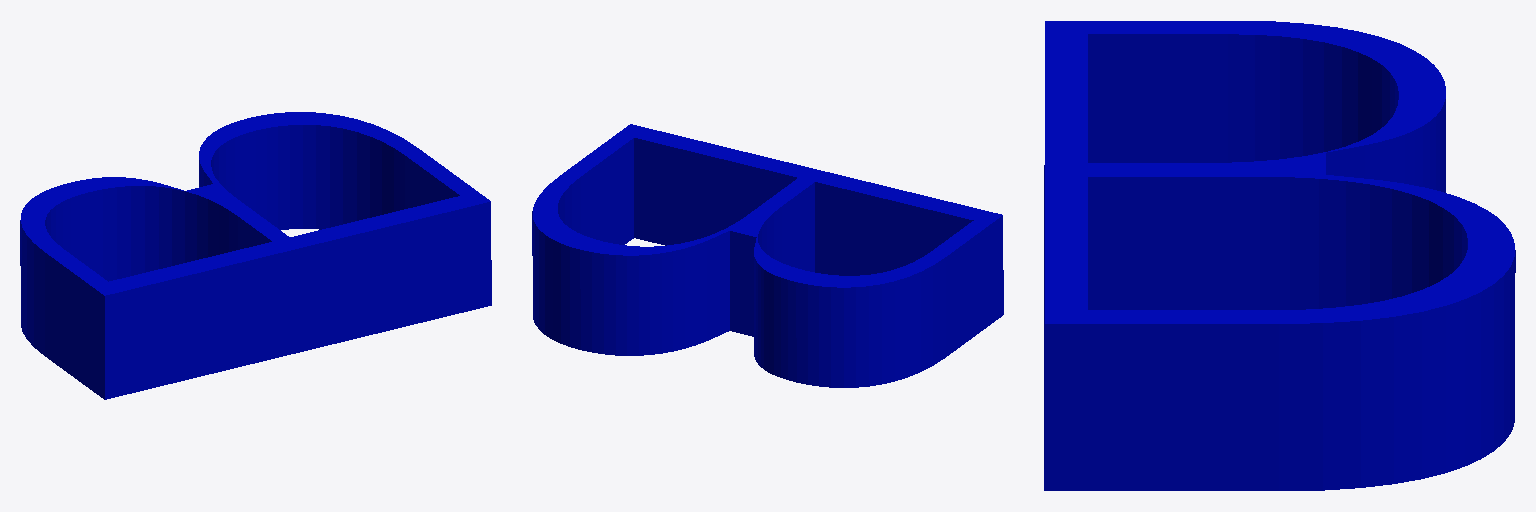
The robot description file, URDF, robot "letter_B":
<?xml version="0.0" ?>
<robot name="letter_B">
    <material name="blue">
        <color rgba="0.006995 0.054480 0.799103 1"/>
    </material>

    <link name="baseLink">
        <!-- from lego/lego.urdf -->
        <contact>
            <lateral_friction value="1.0"/>
            <rolling_friction value="0.0"/>
            <contact_cfm value="0.0"/>
            <contact_erp value="1.0"/>
        </contact>
        <inertial>
            <origin rpy="0 0 0" xyz="0 0 0"/>
            <mass value="0.01"/>
            <inertia ixx="1" ixy="0" ixz="0" iyy="1" iyz="0" izz="1"/>
        </inertial>
        <visual>
            <origin rpy="1.57 0 0" xyz="0 0 0"/>
            <geometry>
                <!--        radius: 10mm, depth: 14.5mm-->
                <mesh filename="meshes/letter_B.obj" scale="0.025 0.025 0.025"/>
                <!--        <box size="0.002 0.002 0.002"/>-->
            </geometry>
            <material name="blue"/>
        </visual>
        <collision>
            <origin rpy="1.57 0 0" xyz="0 0 0"/>
            <geometry>
                <mesh filename="meshes/letter_B_vhacd.obj" scale="0.025 0.025 0.025"/>
                       <!-- <box size="0.002 0.002 0.002"/> -->
            </geometry>
        </collision>
    </link>
    
    <link name="waypoint_0">
        <!--    origin-->
        <inertial>
            <origin rpy="0 0 0" xyz="0 0 0"/>
            <mass value=".0"/>
            <inertia ixx="0." ixy="0" ixz="0" iyy="0." iyz="0" izz="0."/>
        </inertial>
    </link>

    <joint name="waypoint_joint_0" type="fixed">
        <parent link="baseLink"/>
        <child link="waypoint_0"/>
        <origin rpy="0 -1.57 0" xyz="0 0 0.03"/>
    </joint>

    <link name="waypoint_1">
        <!--    origin-->
        <inertial>
            <origin rpy="0 0 0" xyz="0 0 0"/>
            <mass value=".0"/>
            <inertia ixx="0." ixy="0" ixz="0" iyy="0." iyz="0" izz="0."/>
        </inertial>
    </link>

    <joint name="waypoint_joint_1" type="fixed">
        <parent link="baseLink"/>
        <child link="waypoint_1"/>
        <origin rpy="0 -1.57 0" xyz="0 0 0.03"/>
    </joint>
</robot>

--- What the picture shows (computed from the rendered views, not written in the file) ---
3 views of the same robot in one strip: view 1: azimuth 30°, elevation 25°; view 2: azimuth 150°, elevation 25°; view 3: azimuth 270°, elevation 25° (orthographic).
Robot: letter_B — 3 links, 2 joints (2 fixed); root link baseLink; default pose: all joints at 0.
Visible links, largest first — view 1: baseLink; view 2: baseLink; view 3: baseLink.
Boxes of the visible links, x1,y1,x2,y2 form: baseLink: (20,112,491,399); baseLink: (532,124,1003,387); baseLink: (1044,21,1515,490).
Size in the robot's own frame: 0.0622 by 0.0408 by 0.016 metres.
1 mesh visuals loaded from 1 distinct referenced files (1 OBJ).